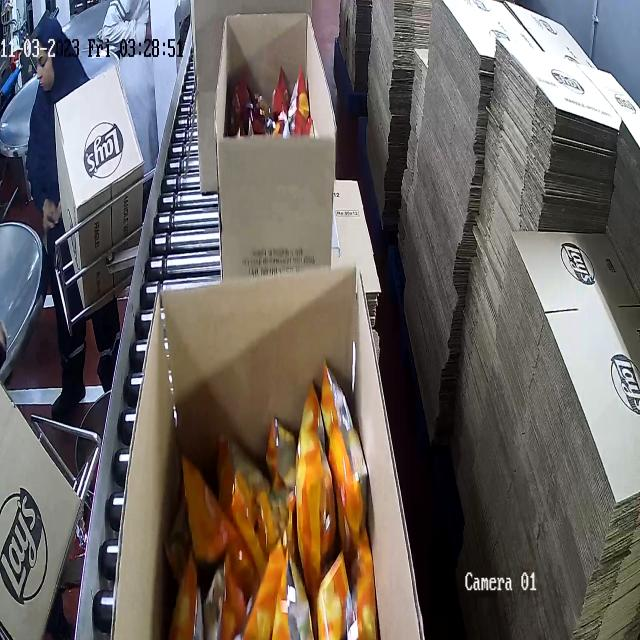FRENCH_CHEESE: (168, 358, 378, 638)
MASALA: (228, 61, 314, 134)
